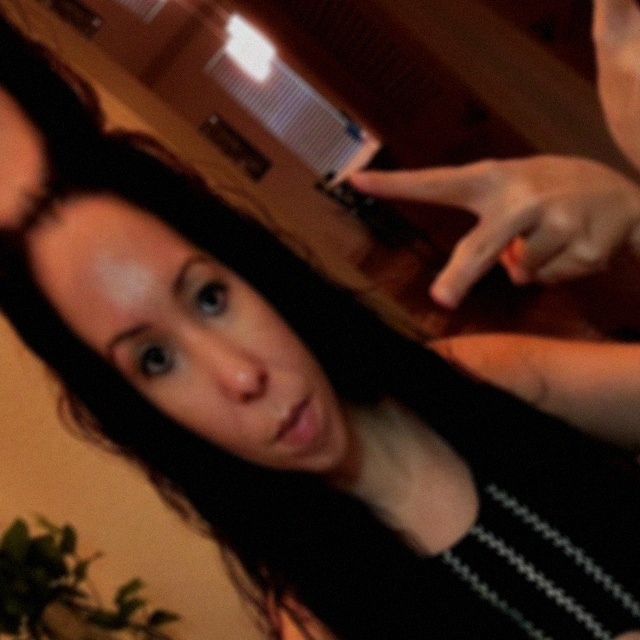Scissors: (316, 35, 640, 385)
